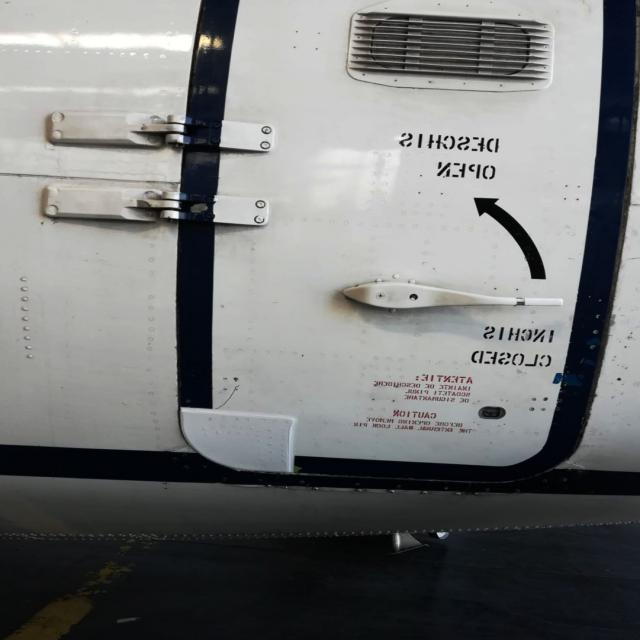crack: (217, 383, 249, 413)
